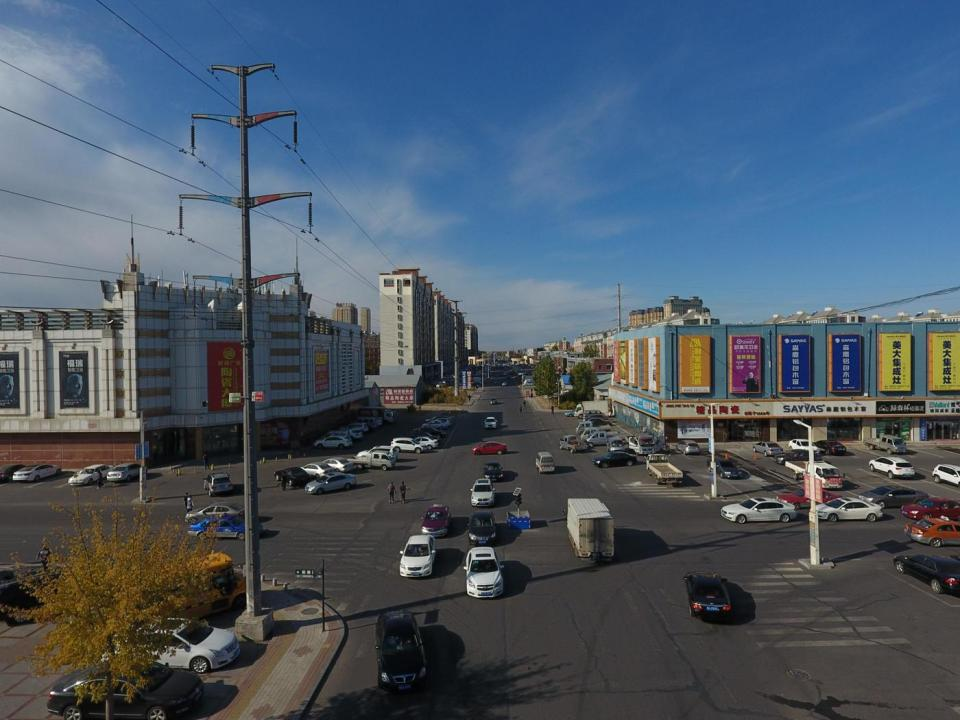bus: (135, 552, 248, 632)
car: (46, 659, 205, 720), (100, 617, 240, 671), (376, 610, 426, 691), (0, 568, 67, 627), (893, 554, 960, 599), (684, 570, 730, 620), (720, 497, 798, 523), (465, 546, 503, 598), (857, 484, 929, 510), (812, 497, 883, 523), (904, 516, 960, 546), (189, 518, 264, 539), (401, 535, 436, 577), (900, 497, 960, 521), (776, 488, 844, 507), (187, 504, 251, 524), (304, 471, 357, 494), (468, 510, 496, 547), (420, 505, 452, 537), (11, 464, 62, 484), (869, 457, 915, 479), (0, 461, 38, 484), (107, 462, 149, 482), (68, 466, 116, 483), (774, 448, 822, 464), (592, 450, 637, 467), (707, 457, 741, 479), (273, 466, 310, 486), (932, 463, 960, 489), (204, 472, 232, 496), (390, 437, 427, 454), (471, 479, 494, 506), (357, 446, 398, 461), (298, 461, 334, 478), (810, 440, 846, 456), (317, 457, 353, 472), (752, 441, 783, 457), (472, 441, 507, 455), (315, 435, 352, 448), (789, 439, 820, 454), (413, 427, 446, 440), (407, 437, 438, 450), (676, 440, 700, 456), (409, 432, 441, 444), (483, 462, 502, 481), (335, 428, 363, 439), (341, 422, 368, 433), (585, 418, 612, 428), (422, 420, 448, 430), (368, 408, 396, 417), (564, 408, 591, 417), (582, 414, 608, 423), (425, 415, 452, 423), (430, 418, 452, 427), (358, 418, 382, 426), (353, 422, 376, 430), (484, 417, 497, 428), (526, 380, 538, 385), (490, 397, 498, 404), (524, 379, 534, 384), (523, 382, 535, 386), (526, 382, 538, 386), (442, 376, 453, 379), (470, 382, 481, 385), (502, 382, 507, 386), (507, 375, 511, 379), (503, 372, 507, 375), (494, 380, 498, 383), (498, 373, 501, 376), (505, 371, 508, 374), (494, 374, 498, 376), (497, 370, 499, 371), (505, 368, 507, 369)
truck: (568, 498, 614, 561), (785, 459, 843, 488), (646, 454, 683, 485), (347, 450, 396, 470), (624, 434, 665, 456), (862, 434, 906, 454), (574, 400, 609, 418), (586, 430, 622, 447), (359, 406, 395, 423), (581, 426, 619, 442), (559, 435, 587, 452), (576, 421, 610, 434), (606, 437, 625, 454), (470, 376, 482, 382), (436, 381, 446, 387), (472, 380, 482, 384)
van: (319, 430, 350, 444), (536, 451, 554, 474), (584, 410, 606, 421), (354, 418, 376, 429), (518, 374, 528, 377)
